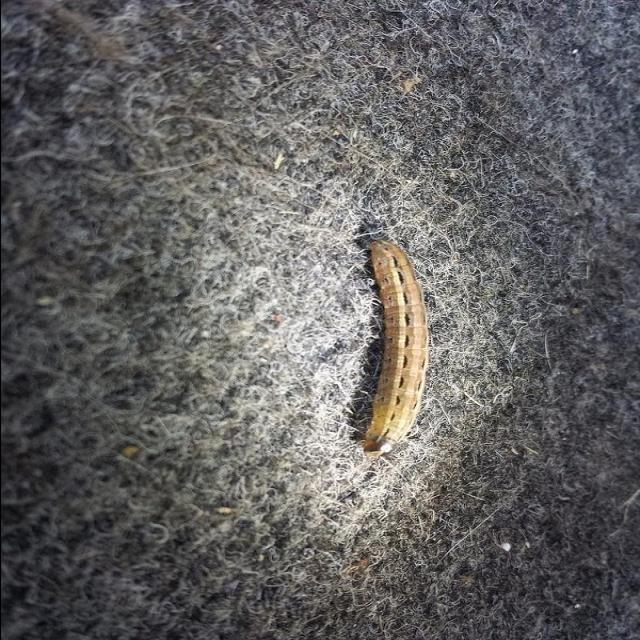army worm: (349, 231, 431, 462)
